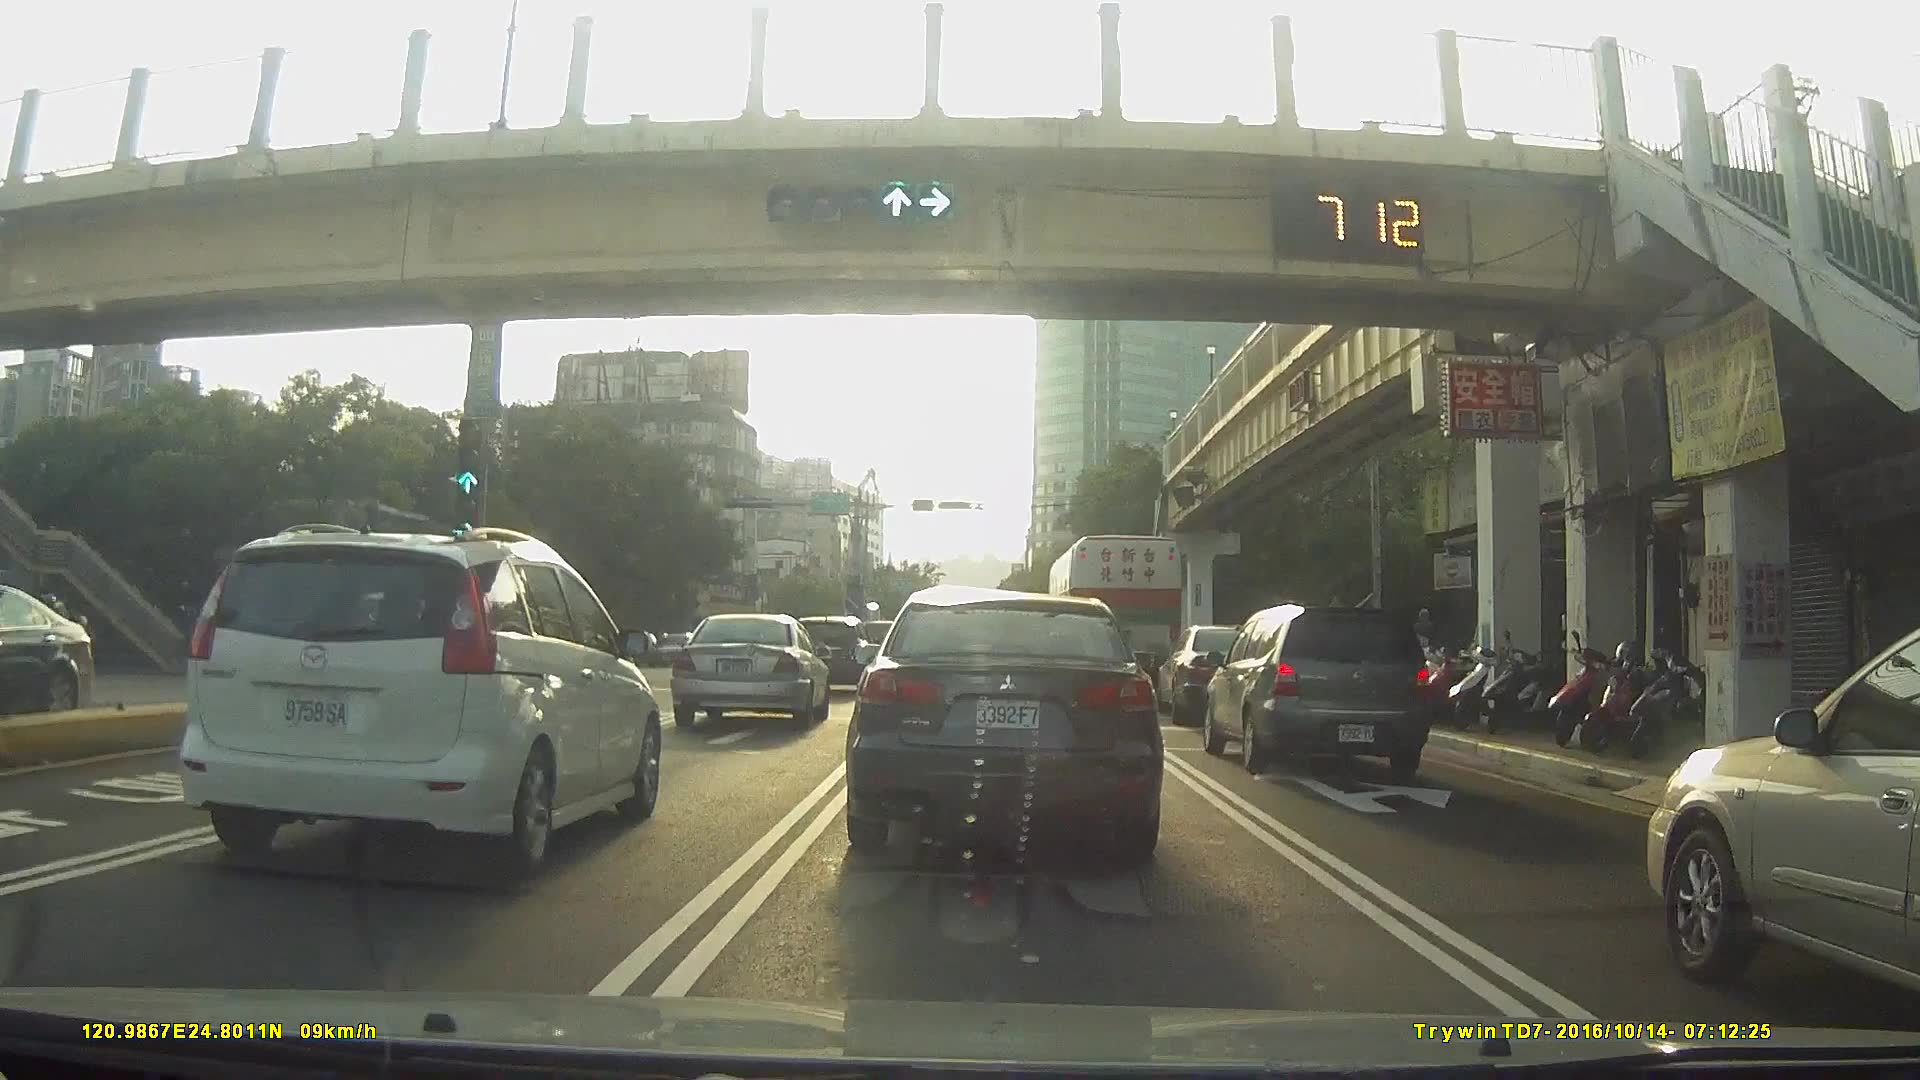vehicle: (167, 524, 665, 877), (1642, 625, 1920, 1000), (844, 585, 1158, 869), (1200, 605, 1432, 786), (1044, 535, 1191, 692), (669, 613, 827, 731), (1, 592, 117, 727), (1156, 621, 1276, 723), (789, 616, 872, 694), (647, 632, 695, 669), (636, 632, 682, 669)
